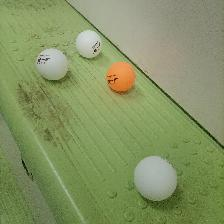WhiteBall: (133, 155, 177, 201), (36, 47, 67, 80), (74, 29, 102, 58)
YellowBall: (105, 62, 135, 91)
